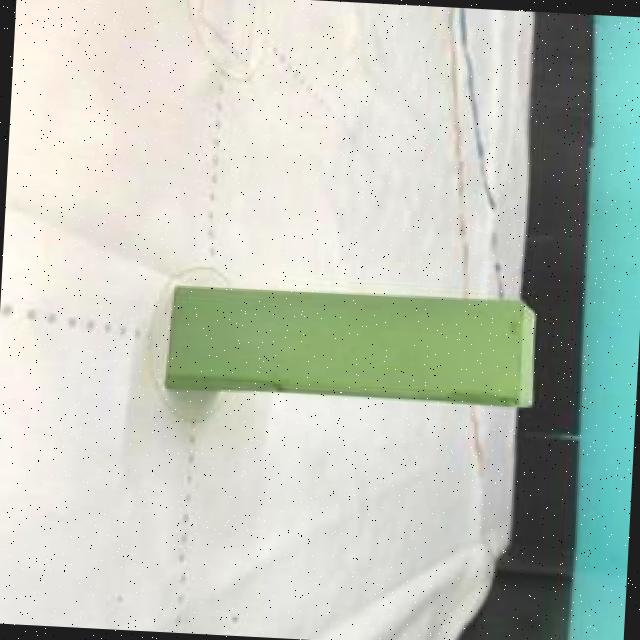greenbox: (164, 277, 543, 410)
